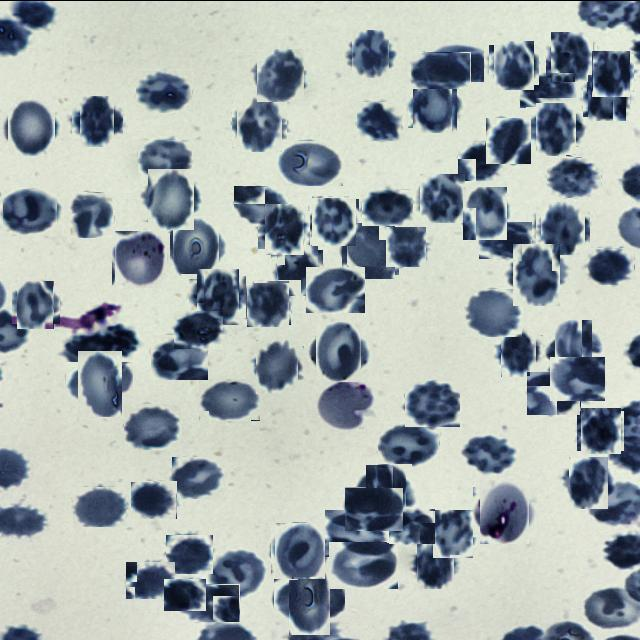red blood cell: (281, 570, 338, 628), (329, 542, 398, 588), (277, 139, 344, 185), (169, 219, 224, 274), (509, 246, 564, 301), (72, 356, 128, 410), (325, 510, 387, 558), (272, 522, 326, 576), (144, 171, 198, 225), (312, 325, 366, 378), (378, 421, 440, 467), (209, 548, 268, 596), (5, 100, 58, 152), (306, 266, 365, 312), (344, 224, 396, 276), (466, 288, 522, 336), (199, 377, 261, 420), (124, 403, 181, 449), (345, 486, 404, 530), (151, 334, 208, 379), (3, 188, 57, 235), (405, 380, 460, 426), (136, 68, 193, 112), (410, 80, 460, 130), (538, 202, 588, 252), (234, 99, 284, 149), (256, 50, 306, 100), (530, 101, 580, 151), (360, 468, 410, 518), (193, 271, 242, 321), (550, 356, 605, 400), (460, 188, 510, 236), (527, 370, 581, 414), (253, 342, 301, 390), (310, 196, 358, 244), (550, 323, 598, 371), (234, 185, 290, 226), (180, 583, 240, 621), (138, 139, 192, 181), (419, 174, 466, 222), (547, 156, 602, 197), (425, 43, 484, 81), (411, 51, 471, 88), (172, 456, 224, 498), (73, 486, 126, 526), (463, 434, 516, 474), (566, 459, 612, 505), (274, 246, 320, 292), (548, 33, 594, 79), (484, 117, 530, 163), (245, 280, 290, 326), (262, 206, 306, 252), (70, 191, 114, 237), (362, 187, 414, 225), (479, 221, 532, 258), (414, 542, 458, 586), (492, 42, 536, 86), (578, 408, 622, 452), (430, 511, 474, 555), (126, 560, 176, 598), (349, 31, 392, 75), (520, 72, 574, 107), (174, 310, 223, 348), (76, 99, 119, 142), (14, 283, 57, 326), (458, 140, 504, 180), (166, 534, 213, 573), (589, 52, 632, 94), (357, 100, 402, 140), (498, 331, 540, 373), (586, 76, 628, 118), (131, 480, 177, 518), (588, 247, 635, 284), (389, 508, 436, 544), (386, 226, 426, 266), (164, 578, 206, 610)
ring: (476, 482, 534, 540), (114, 230, 168, 286), (316, 378, 376, 428)
